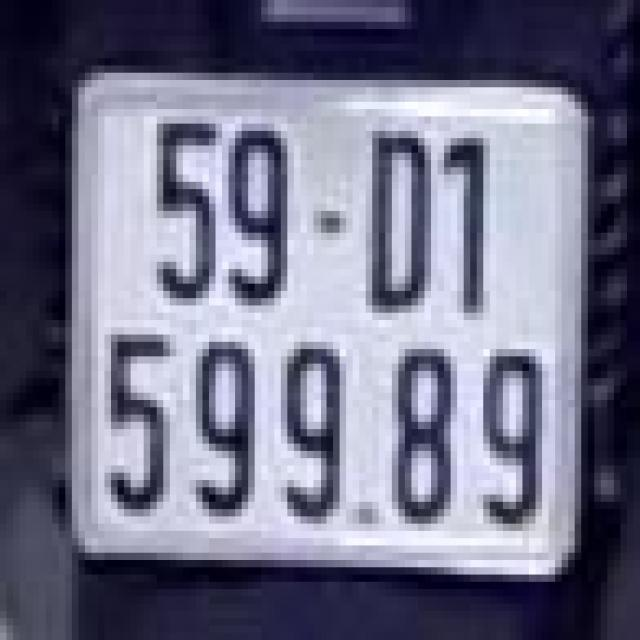1: (434, 127, 506, 324)
5: (85, 316, 189, 520), (134, 106, 225, 309)
8: (369, 334, 454, 524)
9: (218, 113, 304, 309), (477, 331, 555, 527), (268, 331, 346, 520), (186, 316, 252, 513)
D: (356, 113, 447, 316)
